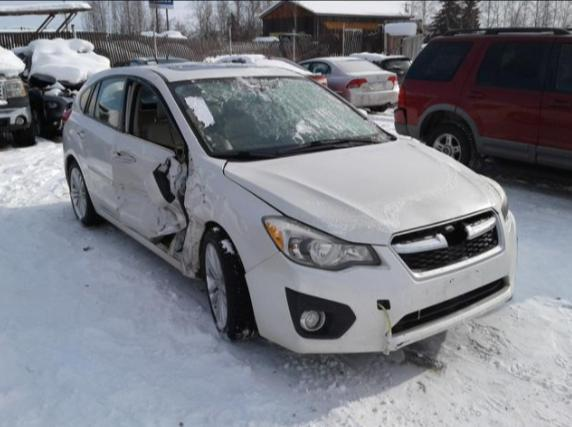Broken part: (114, 131, 193, 260), (126, 72, 190, 149), (121, 74, 135, 132)
Cracked: (168, 75, 393, 153)
Dent: (151, 149, 250, 277), (113, 145, 160, 235), (77, 123, 116, 208)
Missing part: (117, 76, 186, 154), (160, 127, 189, 154), (441, 226, 470, 245), (377, 298, 391, 311)
Scratch: (402, 337, 418, 344), (393, 344, 402, 354)
